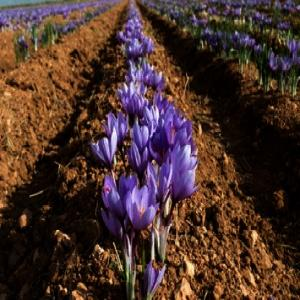Saffron: (125, 185, 162, 236), (172, 163, 200, 204), (92, 134, 124, 168), (126, 142, 154, 180), (108, 114, 134, 146)
